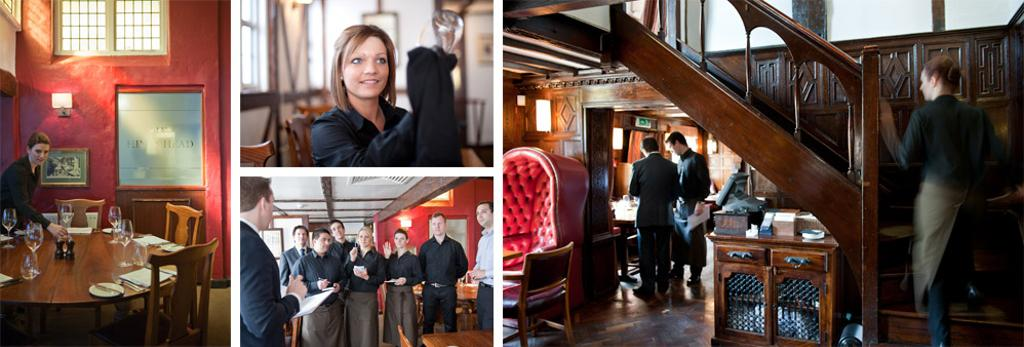face: (342, 45, 388, 98), (255, 195, 272, 232), (919, 71, 938, 101), (30, 145, 48, 165), (475, 209, 491, 226), (318, 235, 330, 252), (432, 220, 443, 235), (295, 232, 306, 244), (359, 232, 369, 245), (395, 235, 405, 248), (331, 227, 343, 237)
